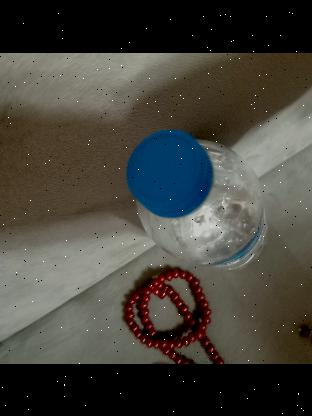Plastic Bottle: (124, 128, 270, 268)
